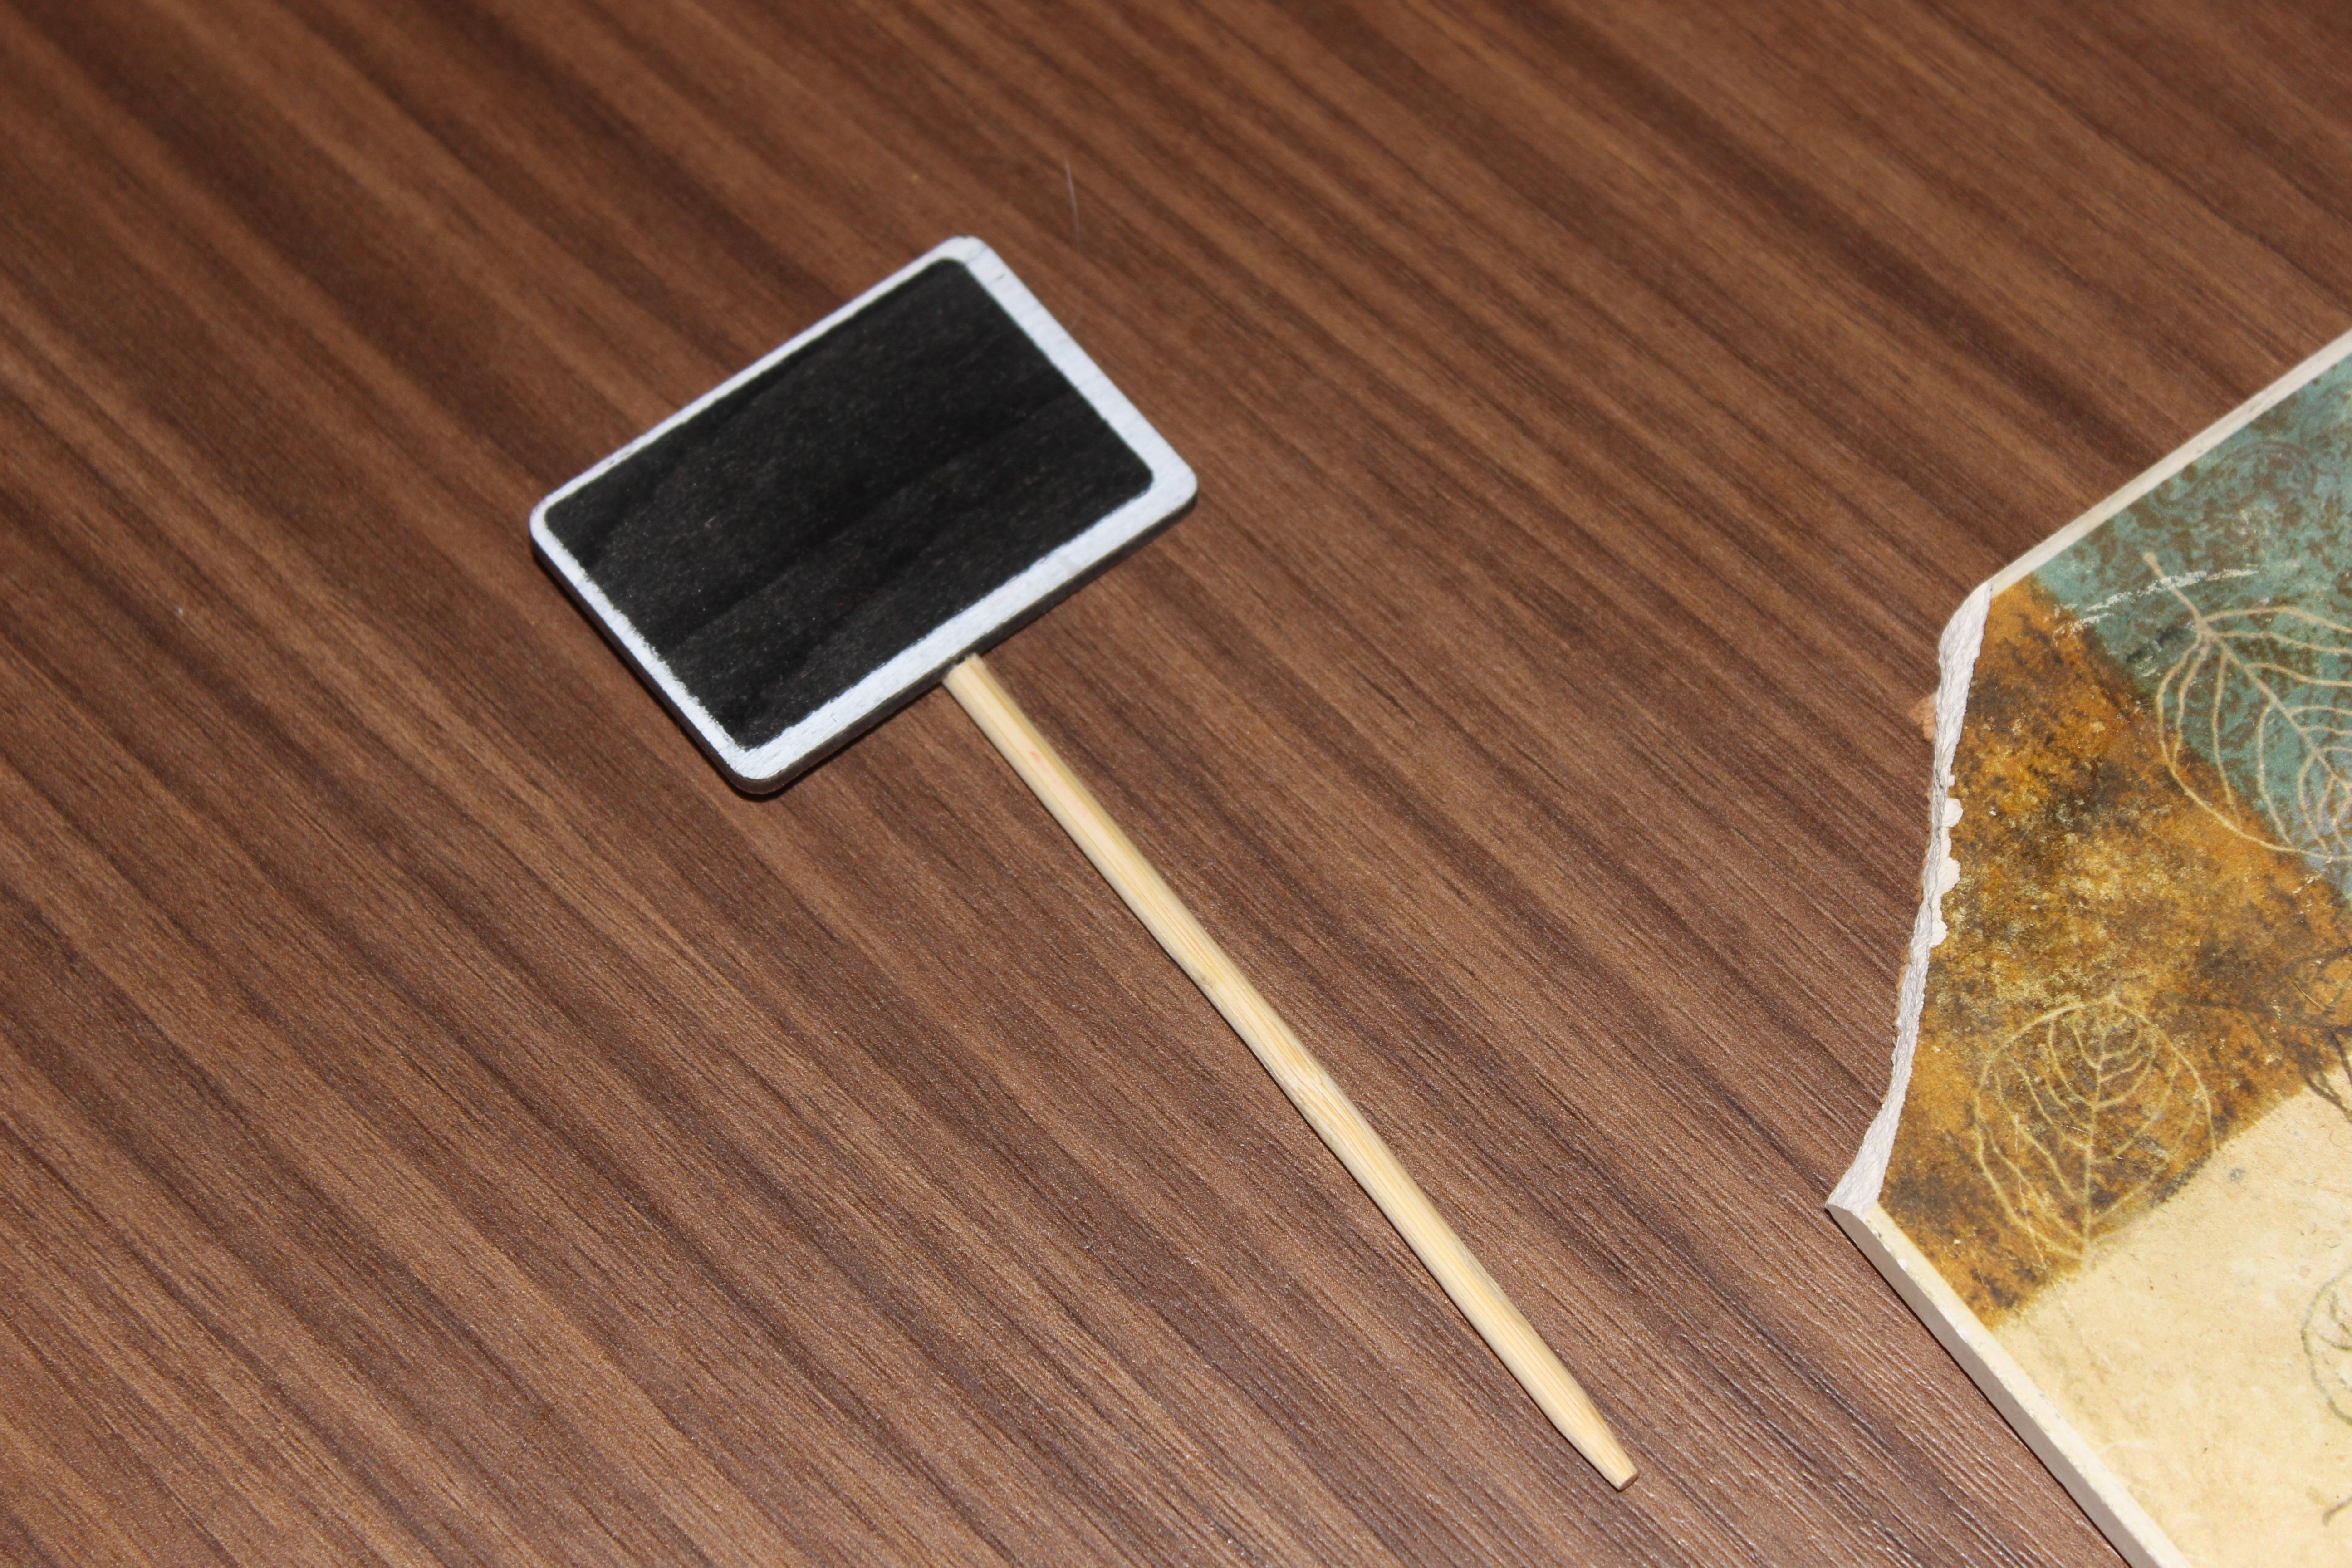sign: (485, 207, 1664, 1521)
